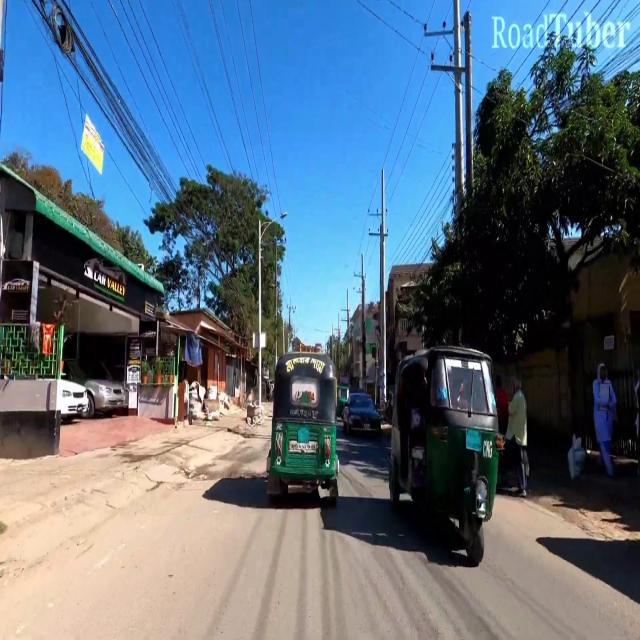black: (343, 390, 382, 446)
